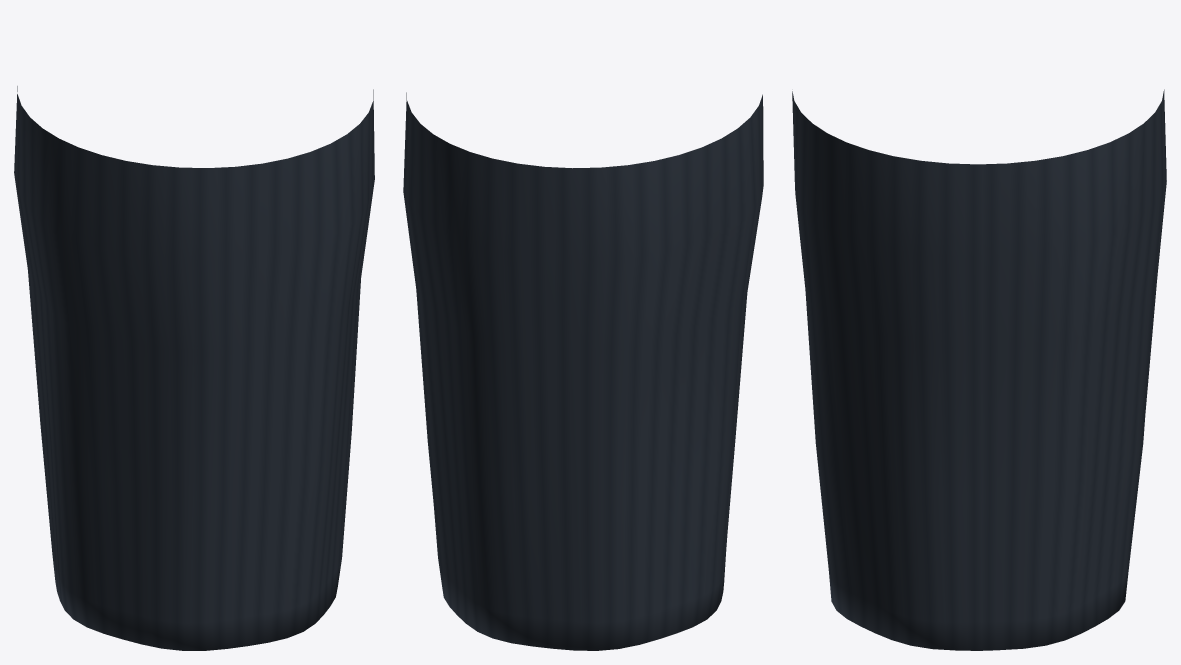
Rendered from work_shorts.gltf.
The picture shows the model from 3 angles, left to right: view 1: azimuth 30°, elevation 25°; view 2: azimuth 150°, elevation 25°; view 3: azimuth 270°, elevation 25°; orthographic projection.
Visible parts, largest first — view 1: LegL; view 2: LegL; view 3: LegL.
Boxes of the visible parts, box(x1,y1,x2,y2) form: LegL: box(14, 86, 374, 650); LegL: box(403, 92, 763, 650); LegL: box(792, 89, 1166, 650).
Size of the model in its own units: 0.2302 by 0.359 by 0.2397.
Materials: 1 (1 with a texture image).
